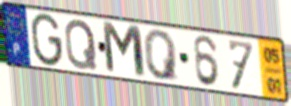6: (191, 34, 220, 89)
7: (227, 38, 256, 92)
G: (30, 12, 64, 69)
M: (100, 19, 149, 81)
Q: (141, 29, 181, 83), (63, 17, 99, 71)
